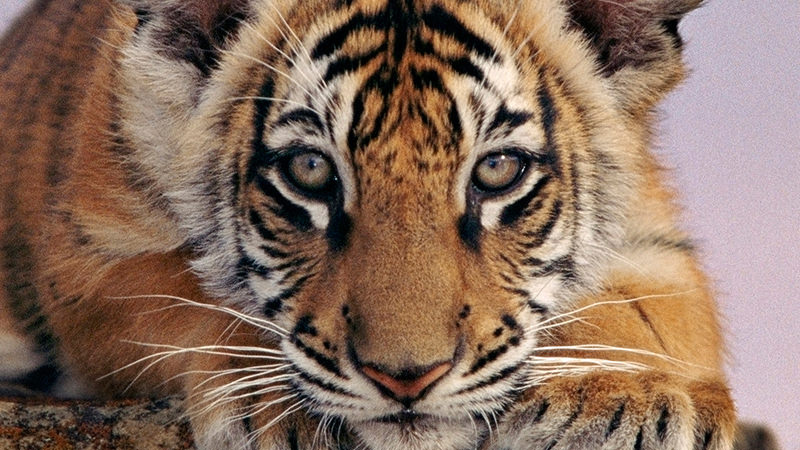Tiger: (5, 10, 749, 450)
